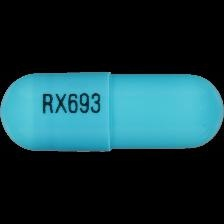54868-5211: (0, 0, 224, 224)
